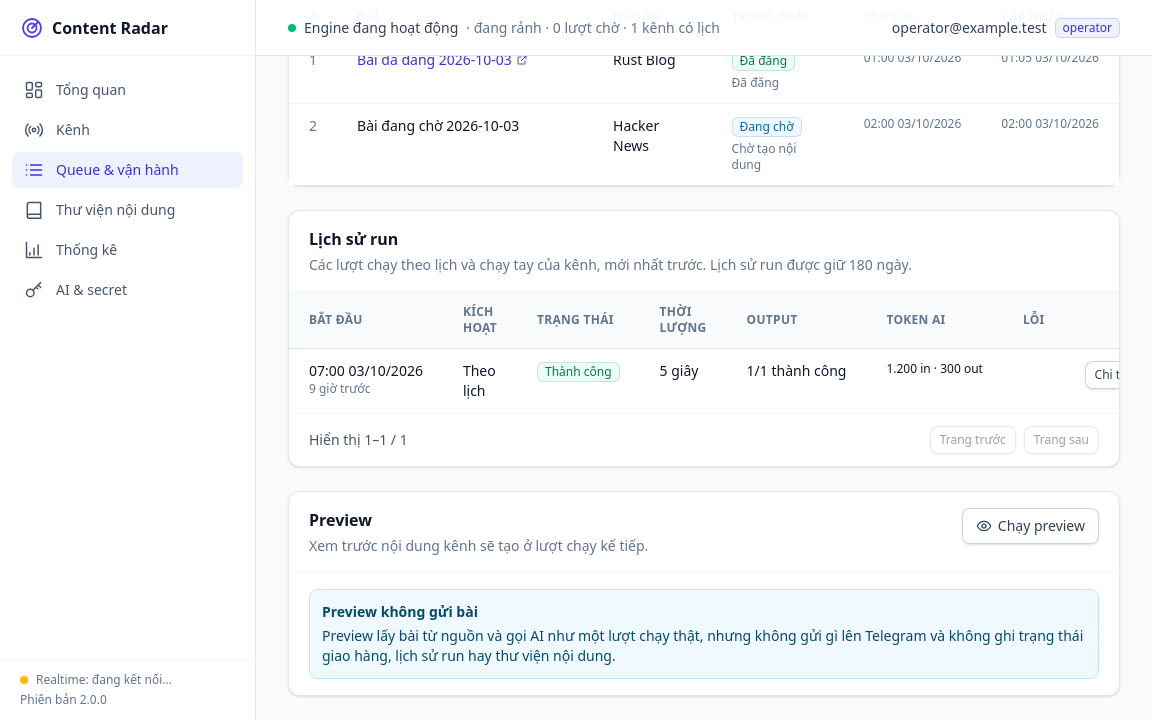
Scenario: OperationsPage › previews inline and says that the preview sends nothing
(page scrolled)
Expected: the text "Preview không gửi bài" is shown, [322,602,478,621]
Click the button "Chạy preview" at (1030, 526), box [962,508,1099,544]
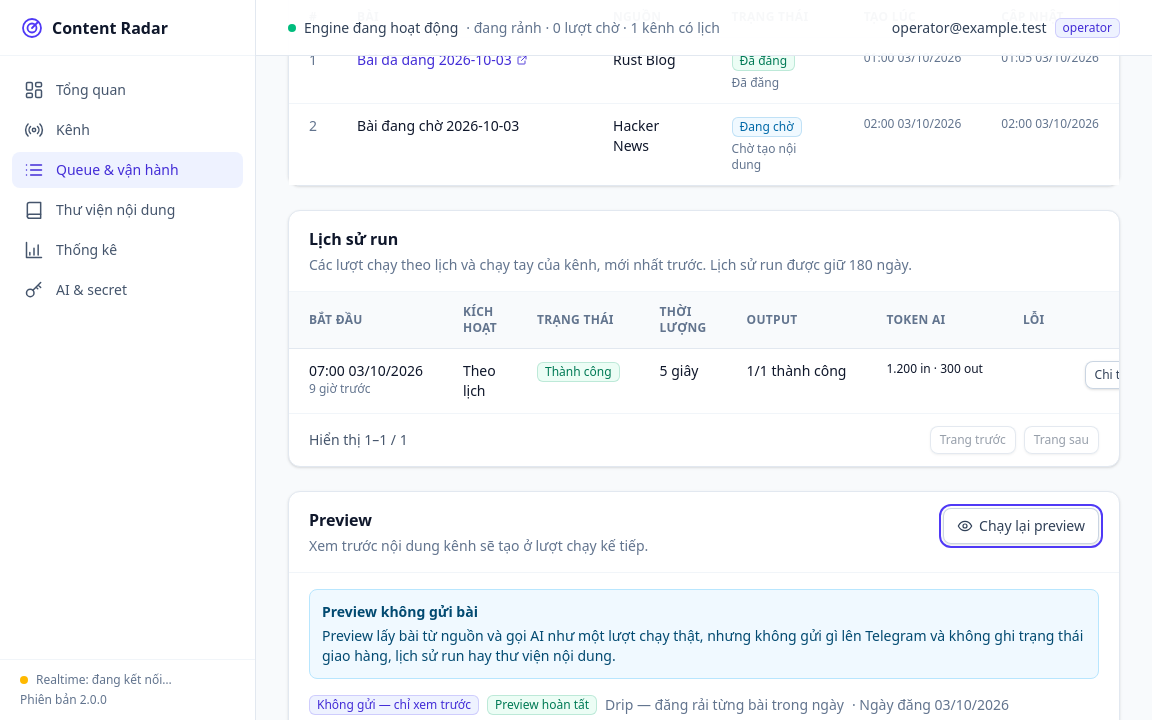
Expected: the button "Chạy lại preview" is enabled, [943,508,1099,544]
Now the text "Không gửi — chỉ xem trước" is shown, box [309,695,479,715]
